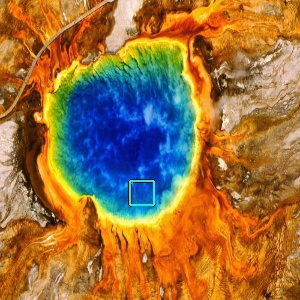square: (127, 179, 155, 206)
